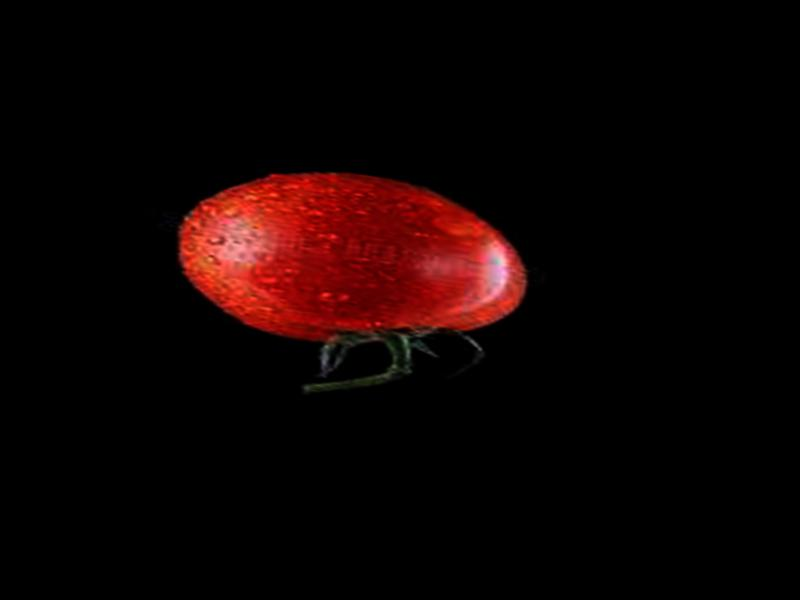Tomato: (163, 147, 539, 372)
